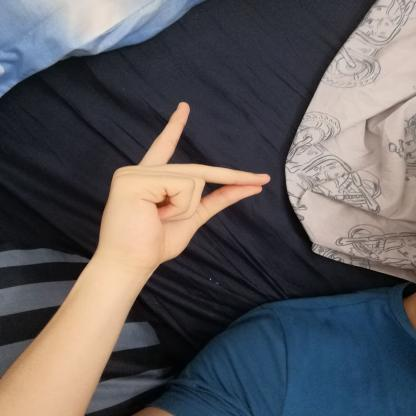TAA: (87, 94, 283, 272)
